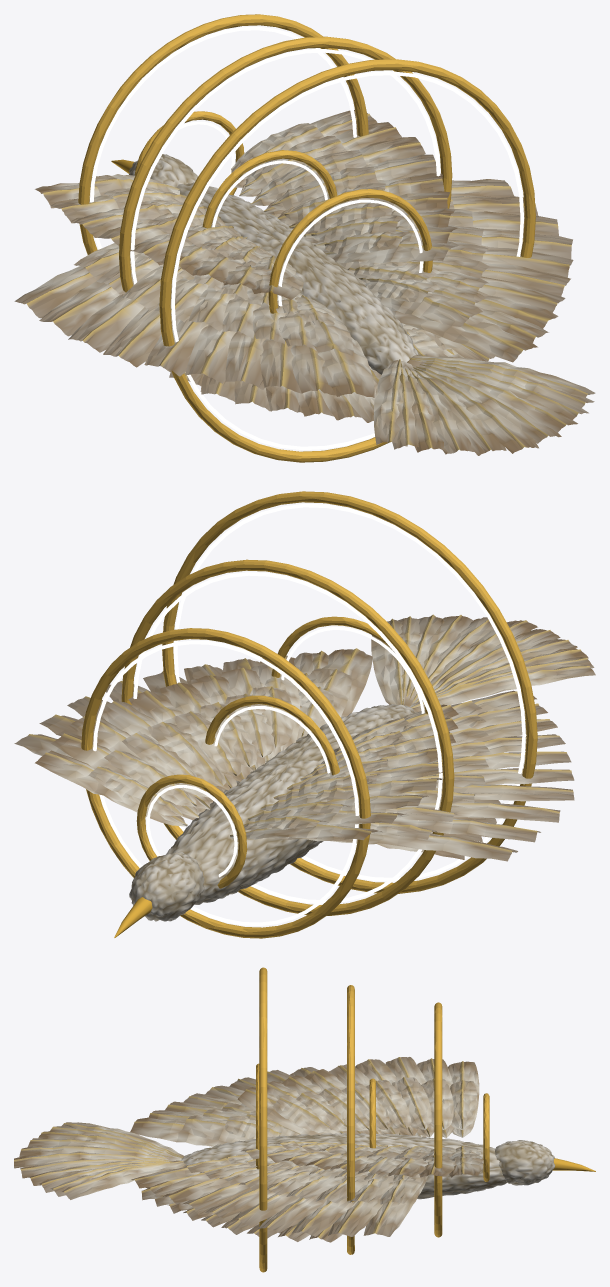
Rendered from seraphine_titan.glb.
The picture shows the model from 3 angles, top to bottom: view 1: azimuth 30°, elevation 25°; view 2: azimuth 150°, elevation 25°; view 3: azimuth 270°, elevation 25°; orthographic projection. The views are drawn at different scales.
Parts seen in each view (by area): view 1: seraphine_titan.001; view 2: seraphine_titan.001; view 3: seraphine_titan.001.
Part boxes in pixels (left/top/right/bottom): seraphine_titan.001: left=14, top=14, right=595, bottom=462; seraphine_titan.001: left=14, top=491, right=595, bottom=938; seraphine_titan.001: left=14, top=967, right=595, bottom=1272.
Bounding box in the file's own units: 6.93 × 5.25 × 10.
